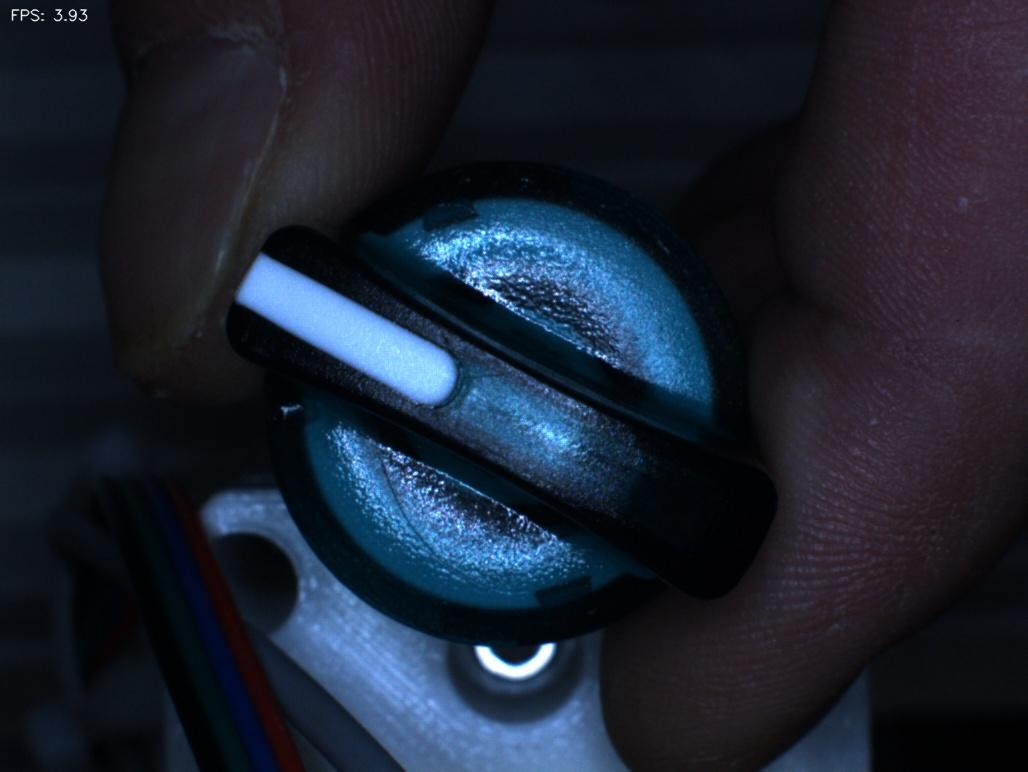Choc: (241, 363, 335, 455)
